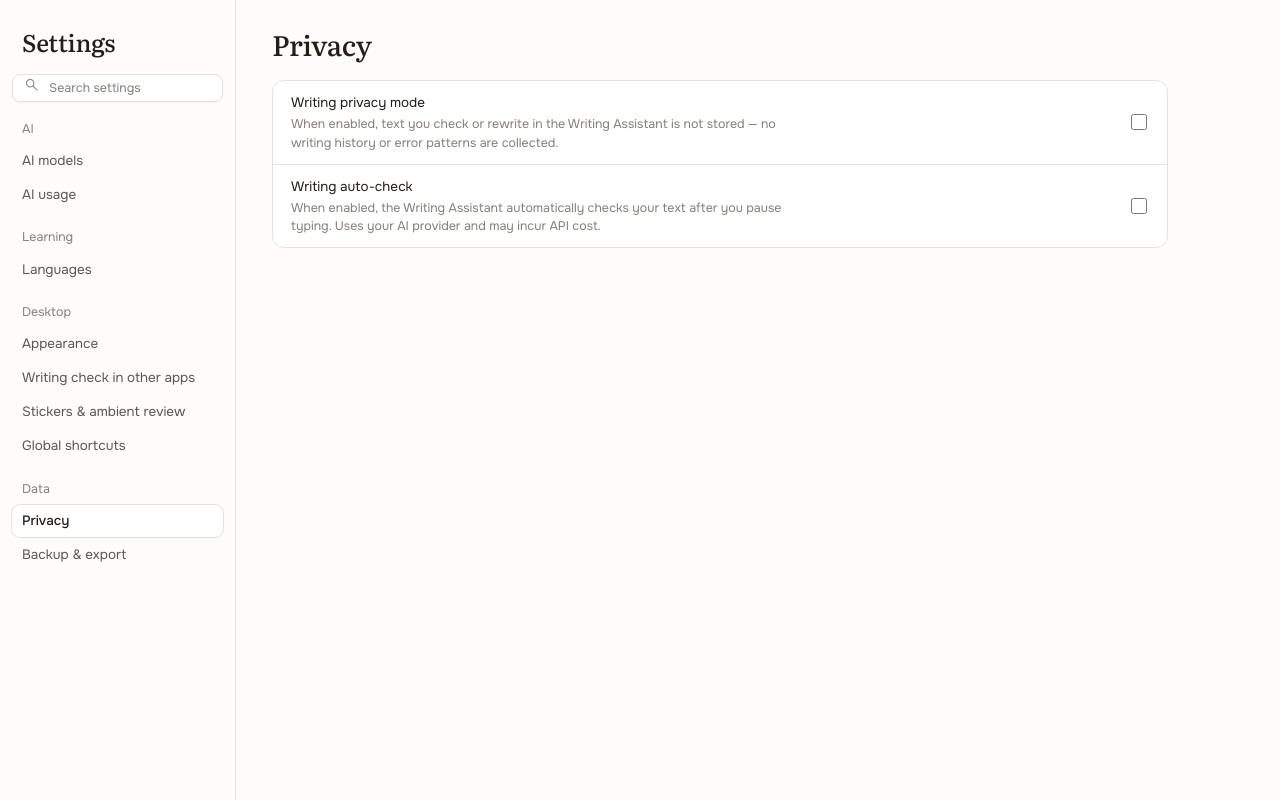
it: SettingsPage › shows a failed save next to the field and keeps the edit
Click the checkbox labelled "Writing auto-check": [1139, 206] box [1131, 198, 1147, 214]
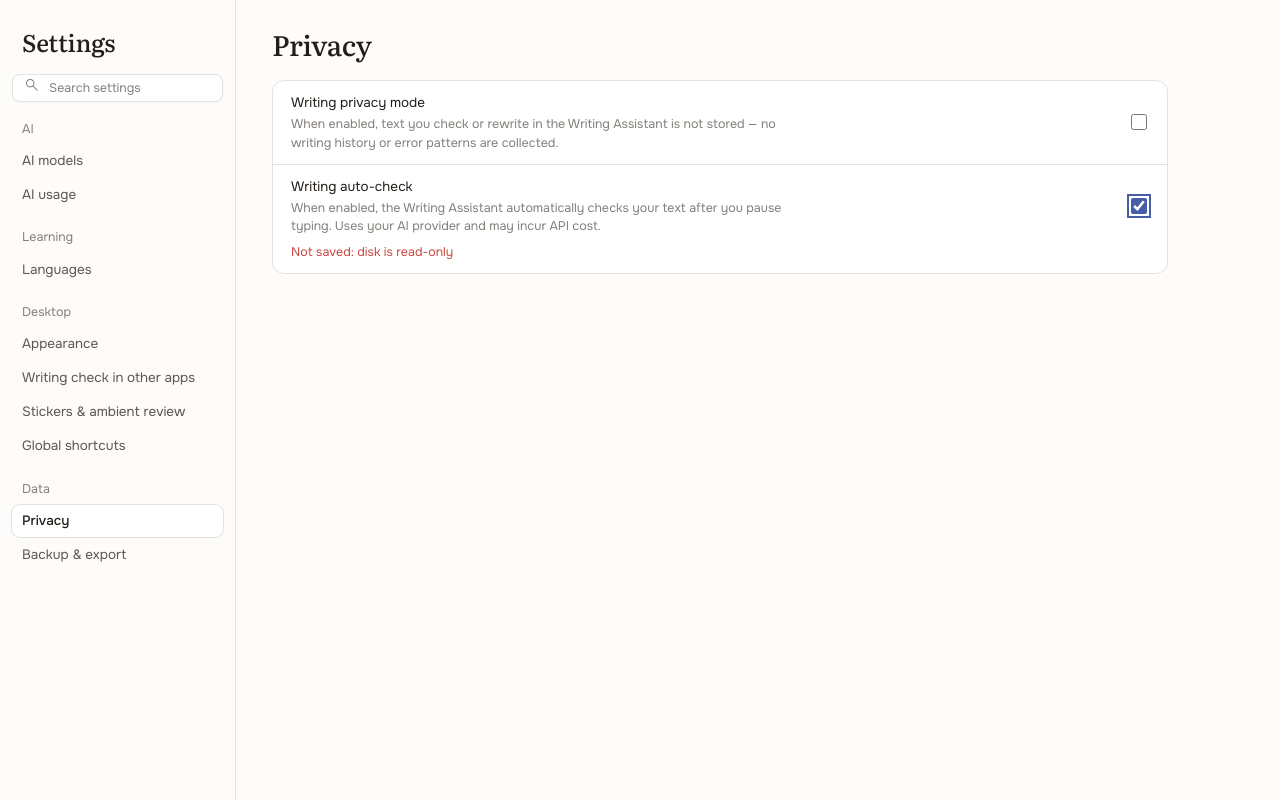
Expected: the checkbox labelled "Writing auto-check" is checked, [1131, 198, 1147, 214]
Expected: the message reads "Not saved: disk is read-only", [291, 244, 453, 260]
